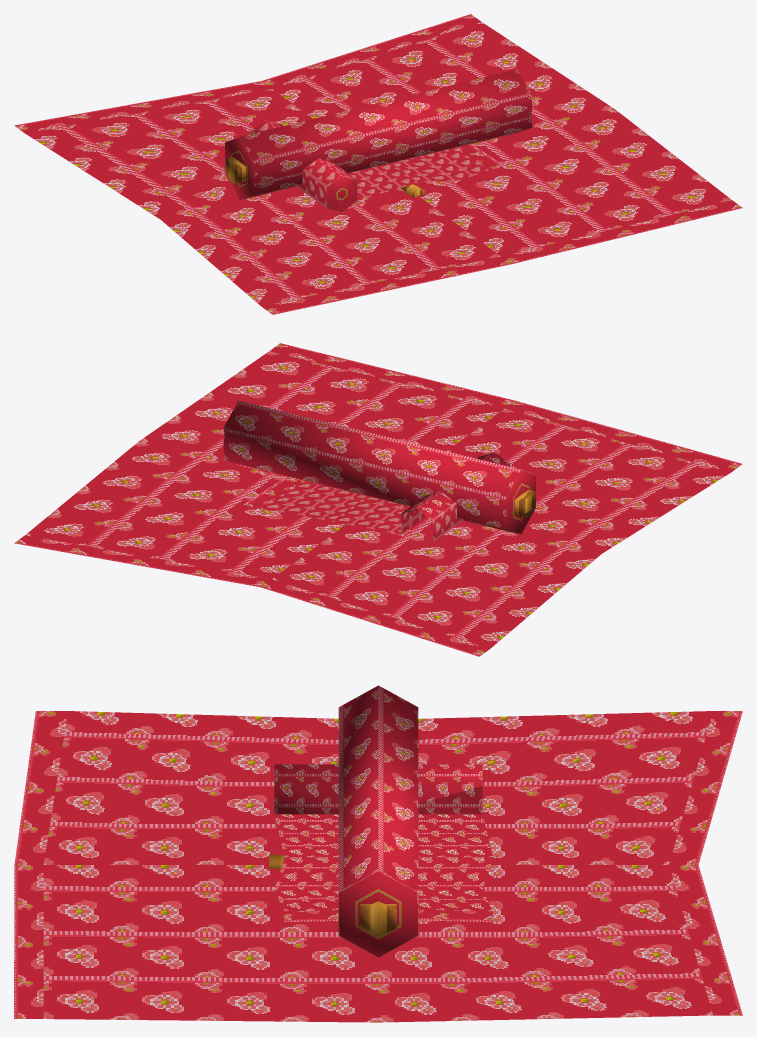
File: 5295ucc_nunoji00.gltf
3 views of the same model, one above another, from view 1: azimuth 30°, elevation 25°; view 2: azimuth 150°, elevation 25°; view 3: azimuth 270°, elevation 25° (orthographic). The views are drawn at different scales.
Parts seen in each view (by area): view 1: 5295ucc_nunoji00; view 2: 5295ucc_nunoji00; view 3: 5295ucc_nunoji00.
Boxes of the visible parts, x1,y1,x2,y2 form: 5295ucc_nunoji00: (14, 14, 742, 314); 5295ucc_nunoji00: (14, 343, 742, 656); 5295ucc_nunoji00: (14, 685, 742, 1022).
Size of the model in its own units: 2.02 by 0.2949 by 2.
Materials: 2 (2 with a texture image).
